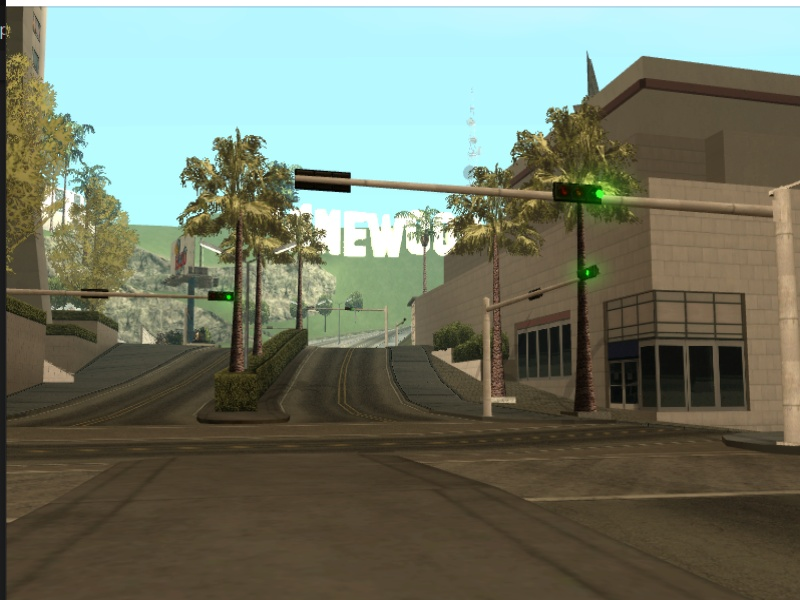pole: (764, 185, 800, 459), (482, 300, 499, 418), (381, 306, 393, 347)
tree: (571, 206, 600, 414), (231, 218, 250, 376), (250, 254, 269, 358), (293, 251, 307, 330)
